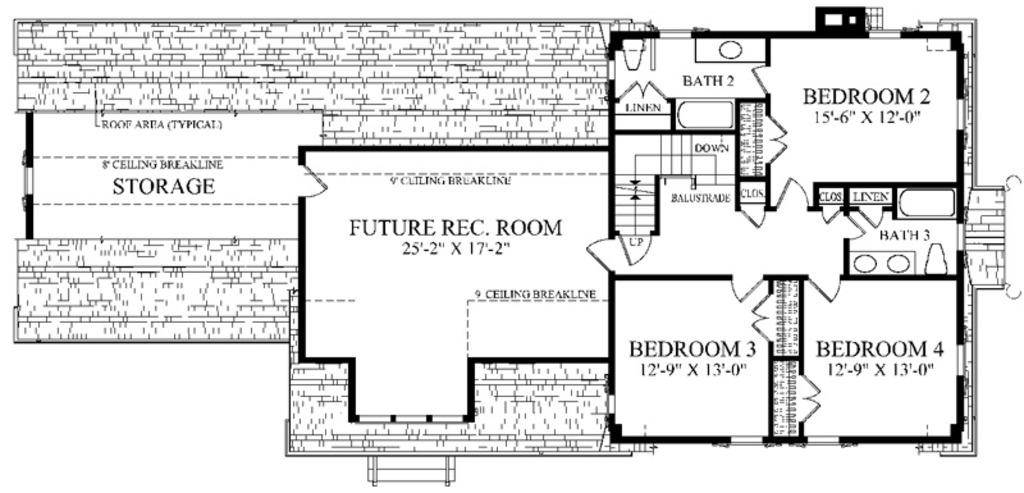door: (771, 173, 809, 214), (764, 111, 792, 164), (745, 296, 775, 344), (296, 157, 328, 198), (583, 232, 618, 268), (806, 272, 843, 304), (621, 233, 652, 271), (798, 372, 821, 423), (615, 81, 669, 102), (746, 61, 772, 99), (845, 208, 872, 243), (730, 272, 762, 300), (739, 206, 767, 230)
large_sink: (920, 237, 952, 279), (623, 35, 646, 70)
small_sink: (846, 245, 917, 282), (693, 37, 769, 70)
stairs: (610, 131, 739, 237)
tub: (891, 185, 962, 226), (670, 98, 737, 128)
window: (356, 410, 466, 425), (803, 432, 845, 451), (19, 160, 38, 202), (953, 340, 974, 377), (717, 432, 764, 448)
